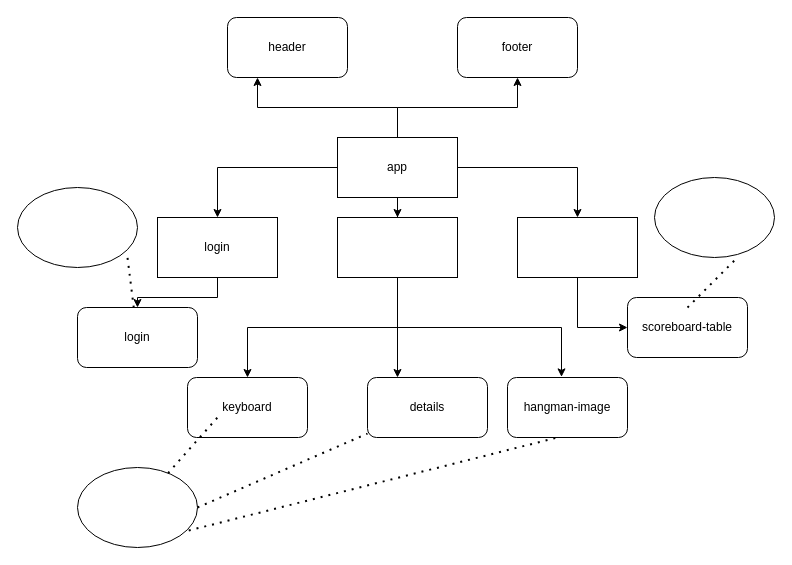
The diagram is 792 pixels wide and 565 high, and some of its shapes have lost their labels. Here are the shapes that lost their labels. From the top down, the centre of each, then its label:
At pixel 77 227: "users- service".
At pixel 714 217: "scoreboard- service".
At pixel 397 247: "game".
At pixel 577 247: "scoreboard".
At pixel 137 507: "game- service".
